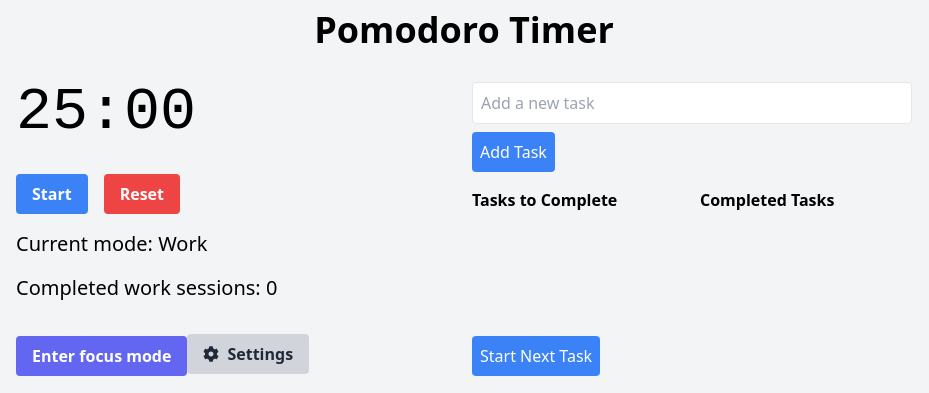
Test: App – timer logic › pauses and resumes the timer
This screenshot has width=929, height=393.
Click the button "Start": (52, 194) [16,174,88,214]
Wait 3000 ms
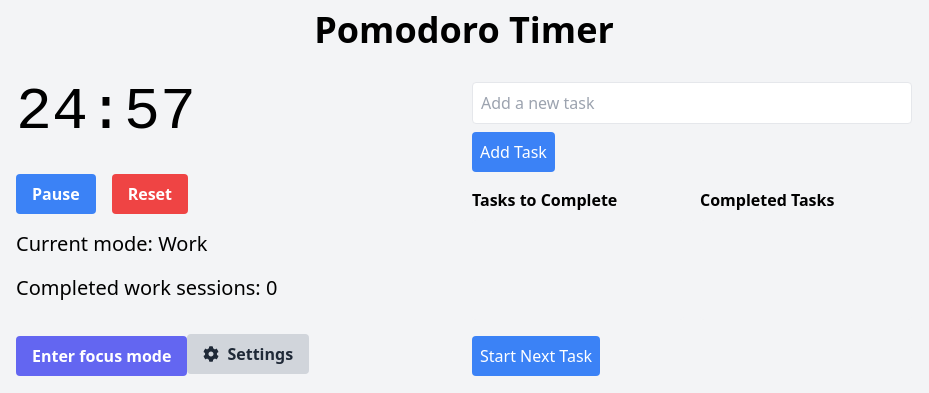
Expected: the text "24:57" is shown, [16,78,196,146]
Click the button "Pause": (56, 194) [16,174,96,214]
Wait 5000 ms
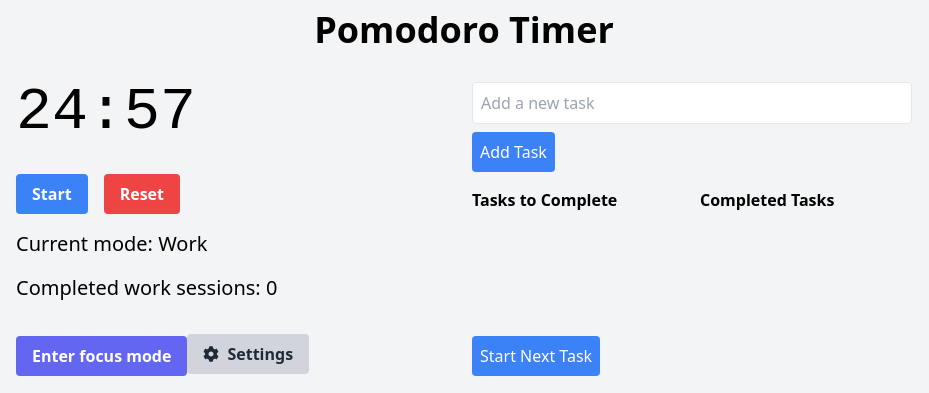
Expected: the text "24:57" is shown, [16,78,196,146]
Expected: the button "Start" is shown
Click the button "Start": (52, 194) [16,174,88,214]
Wait 2000 ms
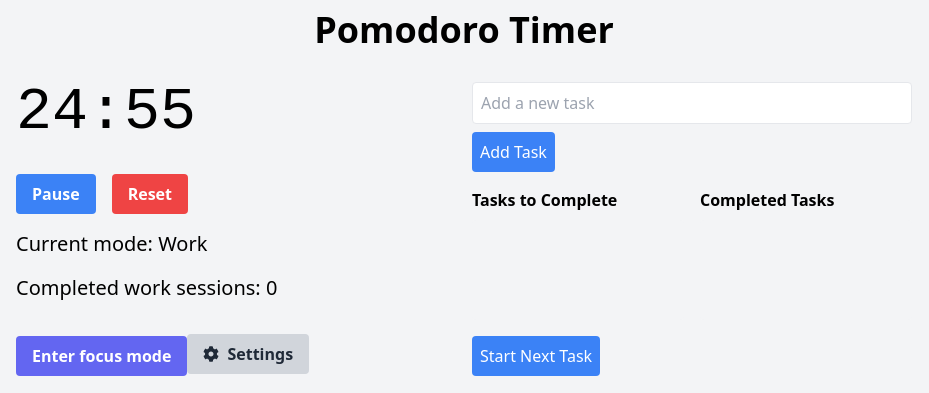
Expected: the text "24:55" is shown, [16,78,196,146]
